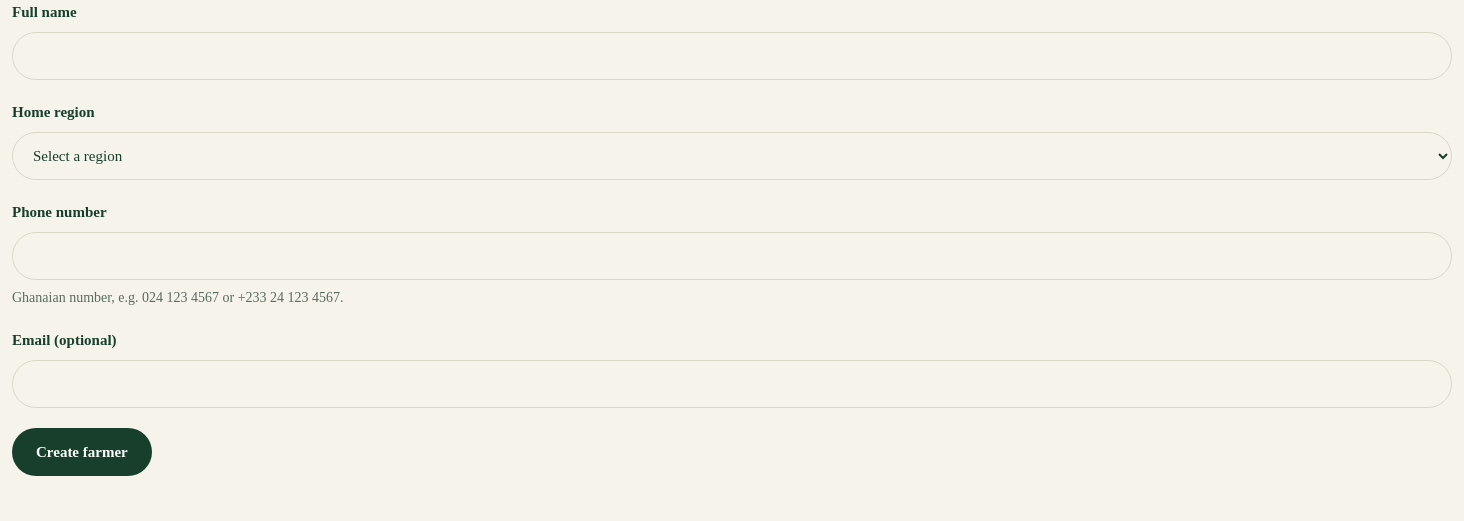
Test: CreateFarmerForm › rejects an invalid phone number and email
In the field labelled "Full name": {"x": 732, "y": 56} [12, 32, 1452, 80], type "Ama Mensah"
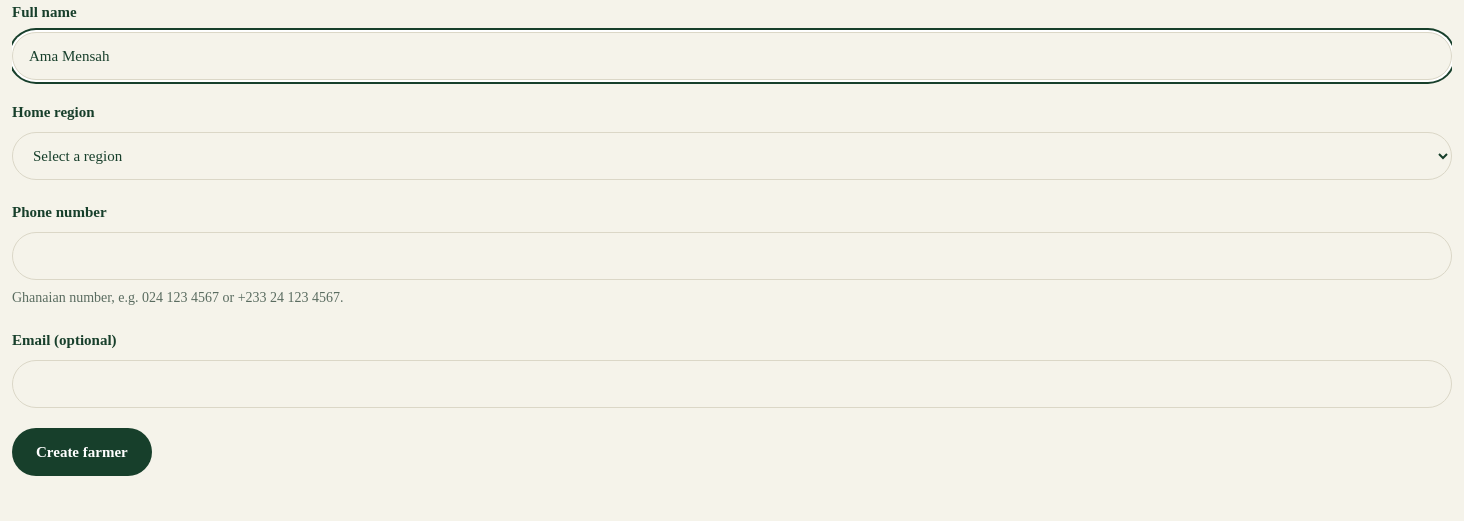
Select "Ashanti" in the dropdown labelled "Home region": {"x": 732, "y": 156} [12, 132, 1452, 180]
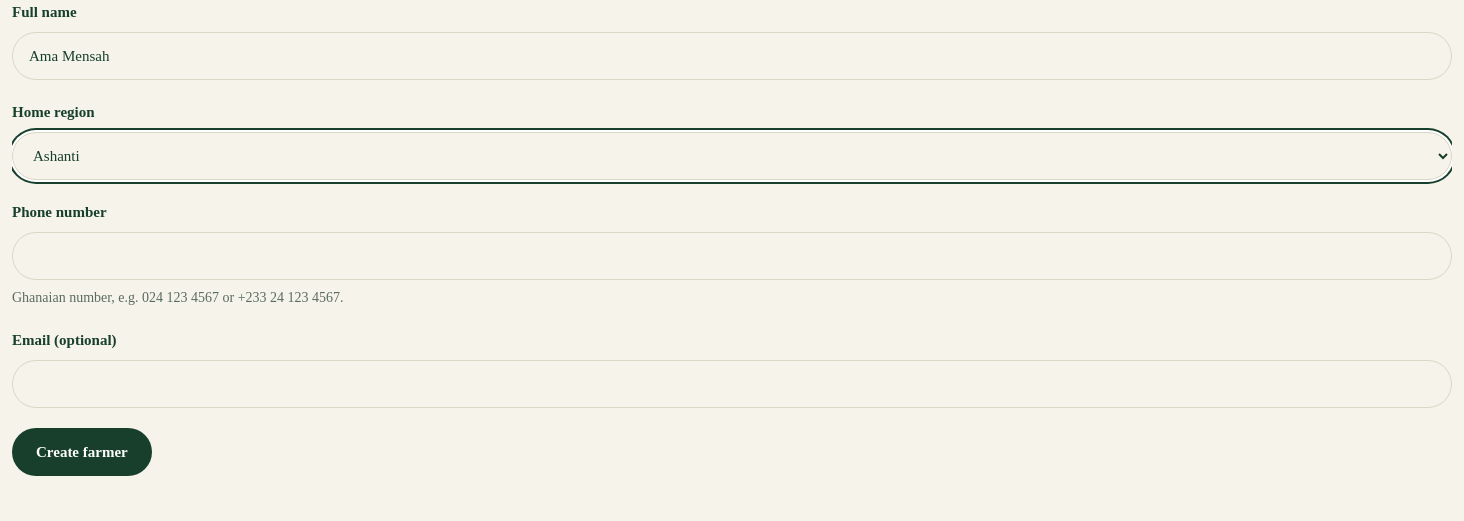
In the field labelled "Phone number": {"x": 732, "y": 256} [12, 232, 1452, 280], type "12345"
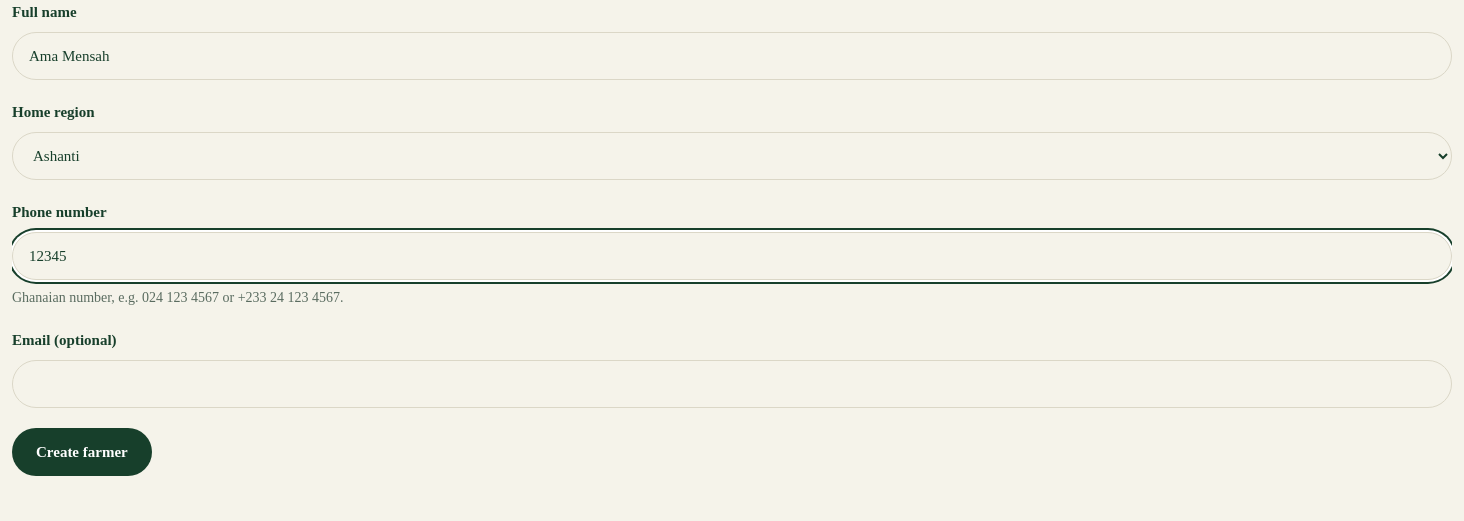
In the field labelled "Email (optional)": {"x": 732, "y": 384} [12, 360, 1452, 408], type "not-an-email"
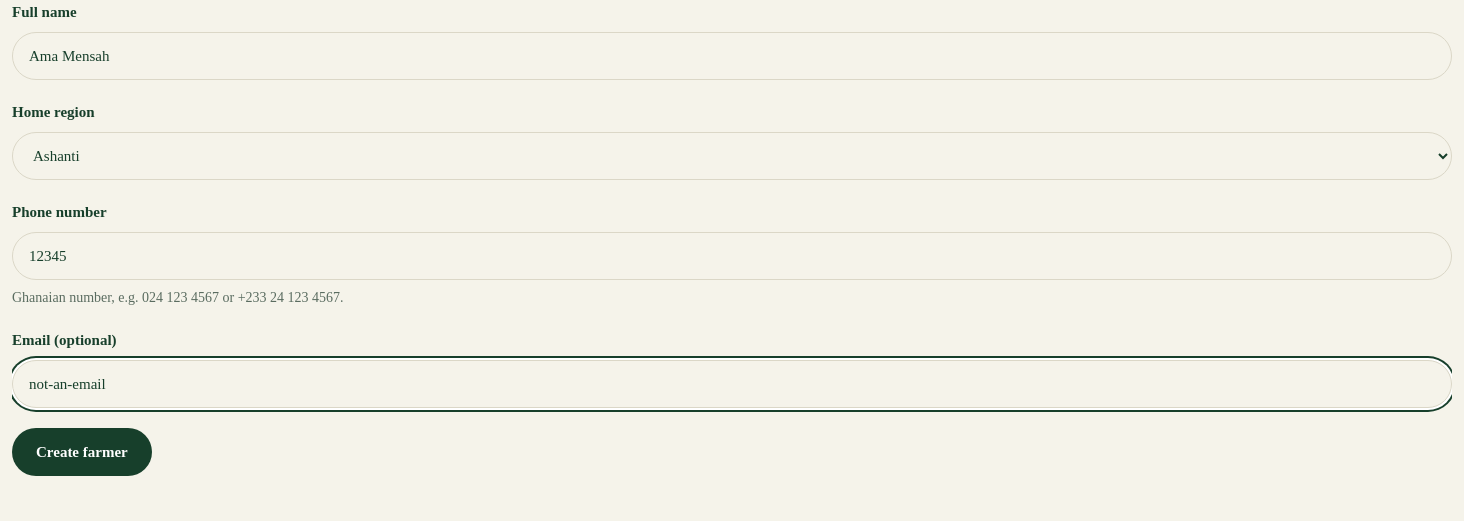
Click the button "Create farmer": {"x": 82, "y": 452} [12, 428, 152, 476]
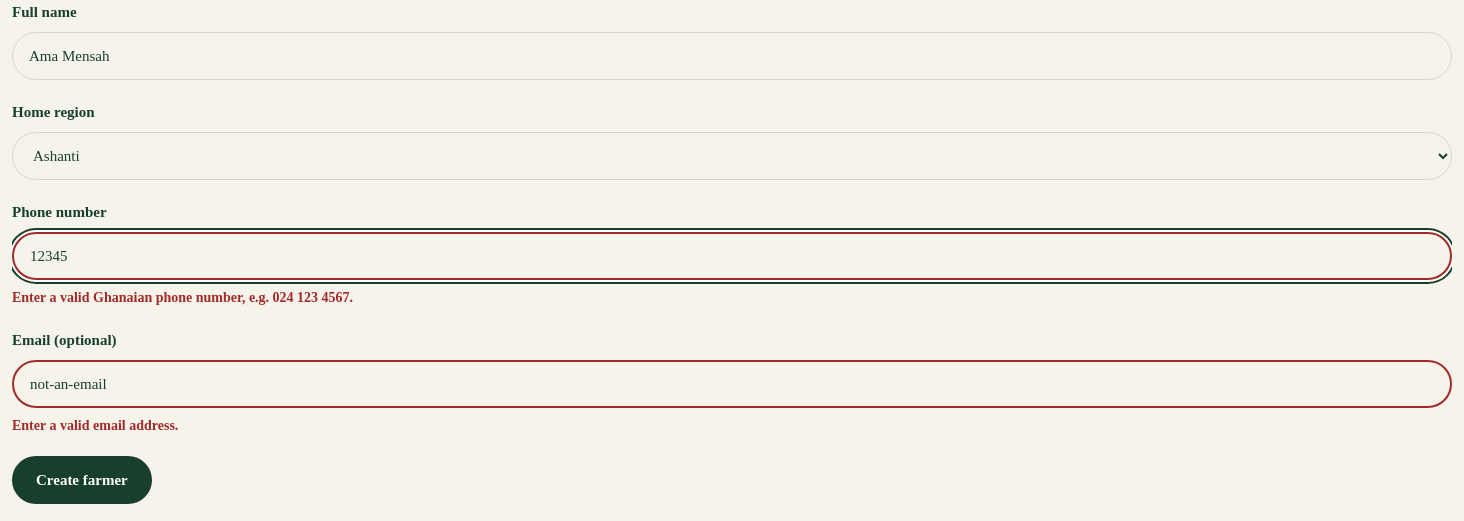
Result: the text "Enter a valid Ghanaian phone number, e.g. 024 123 4567." is shown at [12, 290, 353, 305]
Result: the text "Enter a valid email address." is shown at [12, 418, 178, 433]
